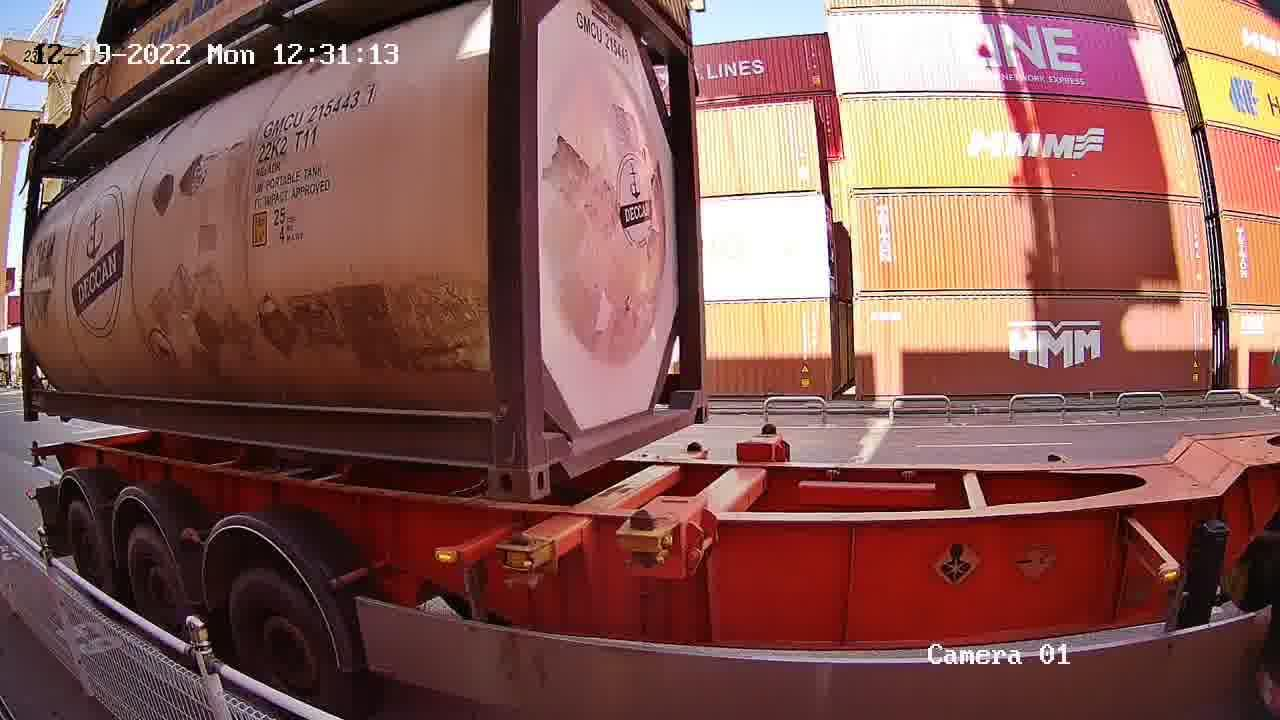Chassis: (503, 443, 710, 568)
Cone: (497, 529, 544, 590), (682, 440, 708, 460)
Hole_L: (528, 408, 583, 499)
Hole_R: (453, 419, 531, 499), (666, 368, 710, 430)
Tire: (224, 572, 340, 709), (125, 530, 183, 629), (71, 509, 103, 587)
